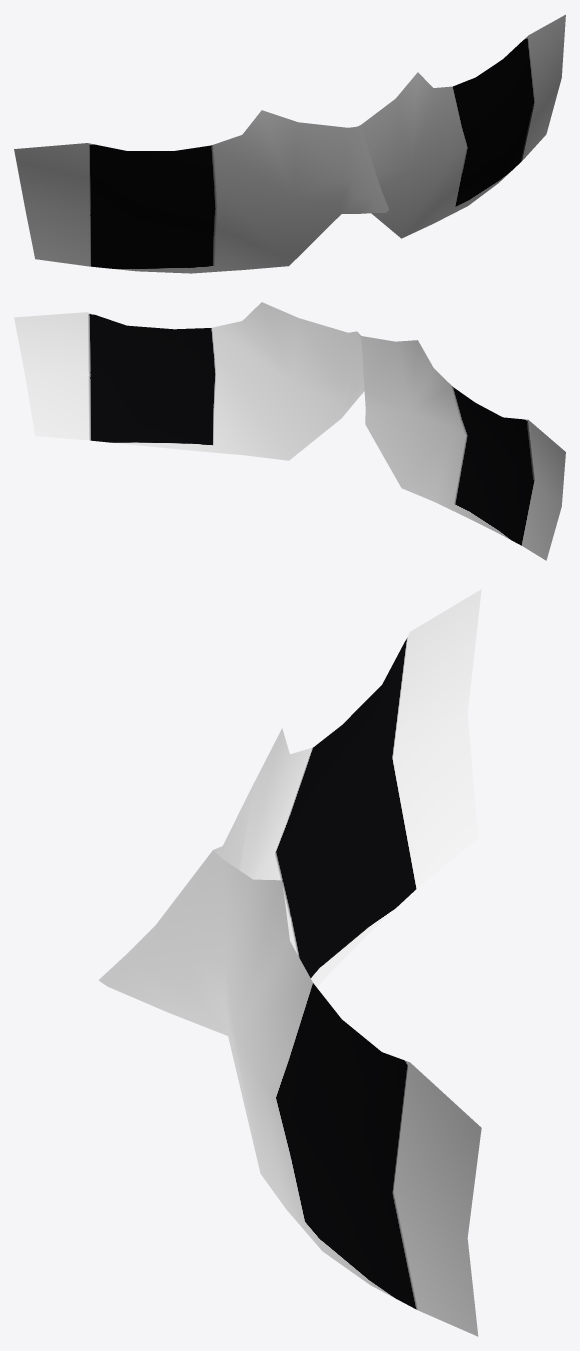
Rendered from Skin Decal.fbx.
3 views of the same model, one above another, from view 1: azimuth 30°, elevation 25°; view 2: azimuth 150°, elevation 25°; view 3: azimuth 270°, elevation 25° (orthographic). The views are drawn at different scales.
Parts seen in each view (by area): view 1: Skin_Dec; view 2: Skin_Dec; view 3: Skin_Dec.
Boxes of the visible parts, x1,y1,x2,y2 form: Skin_Dec: (14, 14, 565, 273); Skin_Dec: (14, 302, 565, 560); Skin_Dec: (98, 589, 481, 1336).
Bounding box in the file's own units: 23.81 × 6.49 × 7.16.
